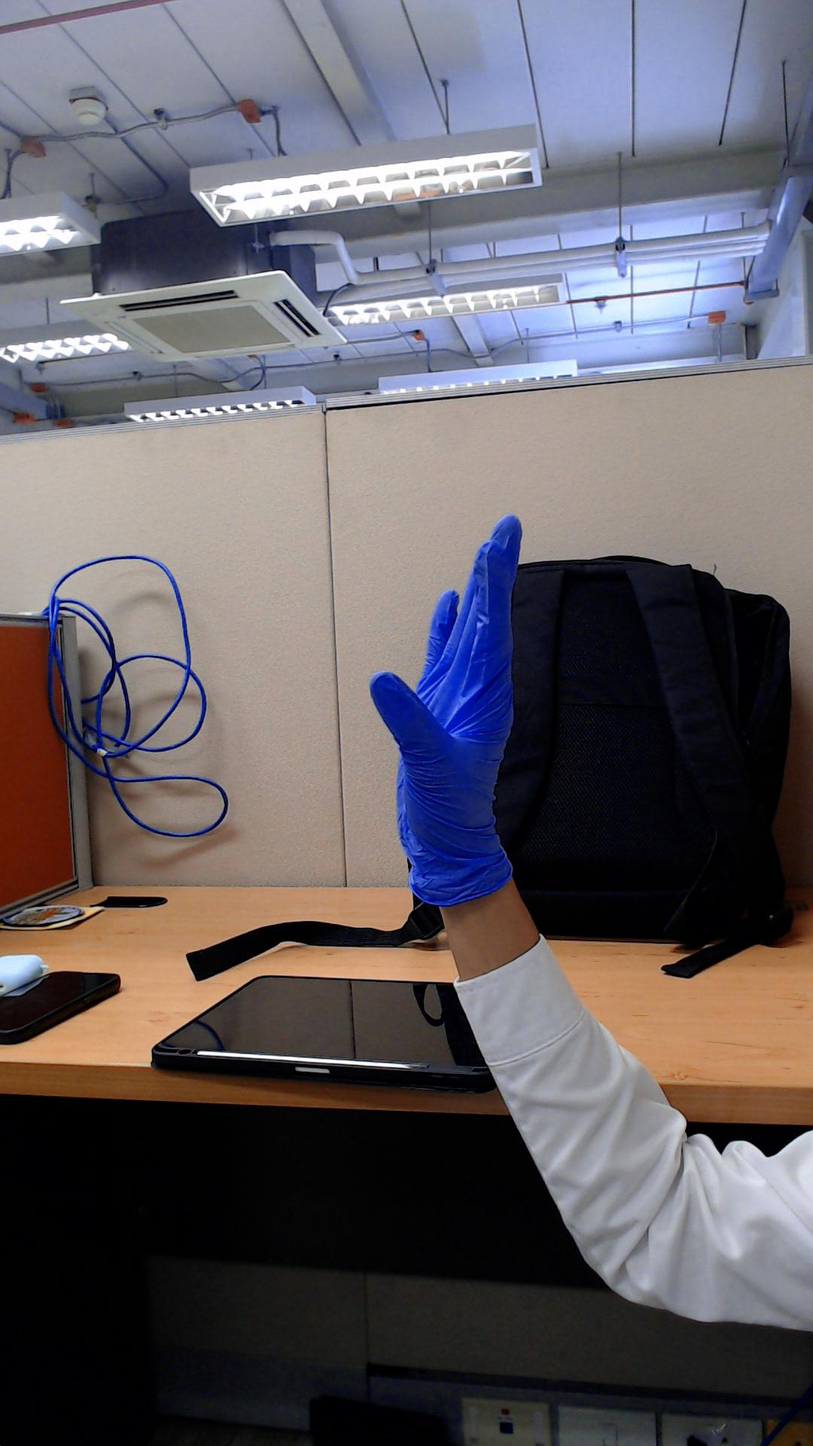gloves: (337, 490, 554, 806)
